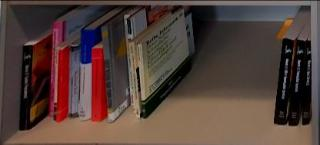book-spine: (273, 38, 294, 126), (288, 39, 306, 127), (100, 26, 114, 123), (79, 29, 93, 121), (19, 44, 33, 131), (129, 42, 141, 119), (124, 15, 134, 106), (91, 48, 102, 122), (68, 45, 79, 118), (48, 22, 56, 117), (138, 44, 147, 120), (303, 40, 311, 125), (56, 49, 63, 123), (54, 48, 59, 120)
